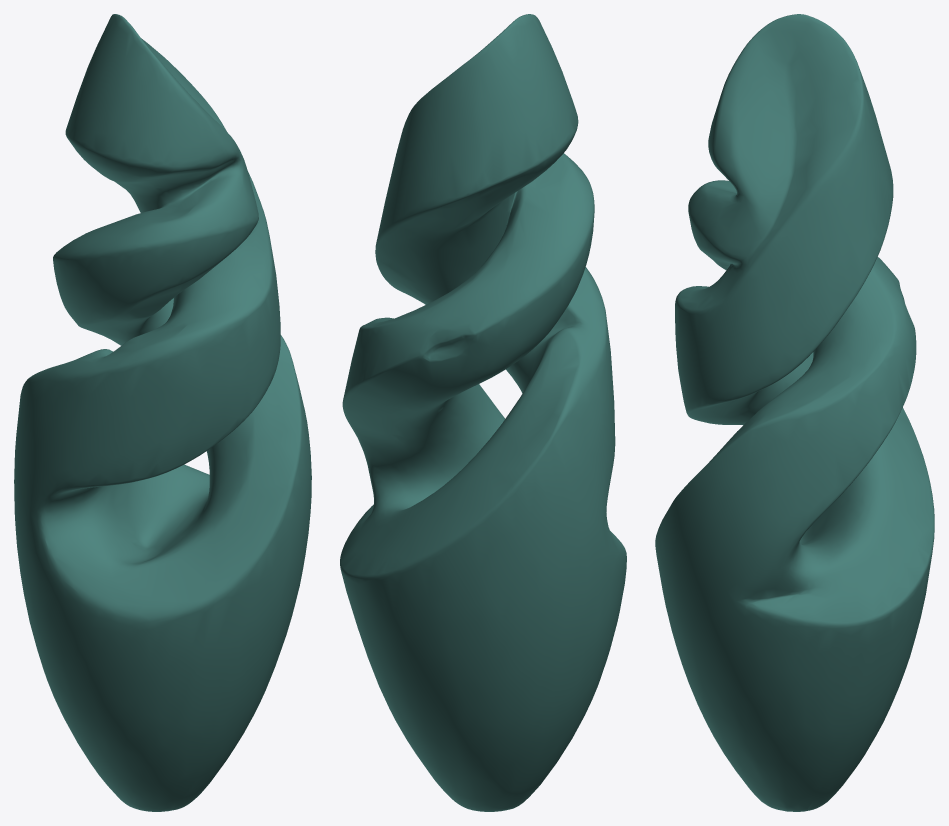
Rendered from celestial-seed.glb.
3 renders of one model, left to right at view 1: azimuth 30°, elevation 25°; view 2: azimuth 150°, elevation 25°; view 3: azimuth 270°, elevation 25°, orthographic. The views are drawn at different scales.
Parts seen in each view (by area): view 1: CelestialSeed; view 2: CelestialSeed; view 3: CelestialSeed.
Part boxes in pixels (x1=…): CelestialSeed: x1=14, y1=14, x2=311, y2=811; CelestialSeed: x1=340, y1=14, x2=626, y2=811; CelestialSeed: x1=655, y1=14, x2=934, y2=811.
Size of the model in its own units: 0.3357 by 1 by 0.3294.
